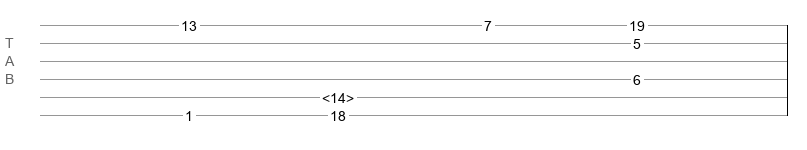1: (185, 108, 193, 118)
13: (181, 18, 197, 28)
18: (330, 108, 346, 118)
19: (629, 18, 645, 28)
5: (633, 36, 641, 46)
6: (633, 72, 641, 82)
7: (484, 18, 492, 28)
harmonic: (322, 90, 354, 100)
